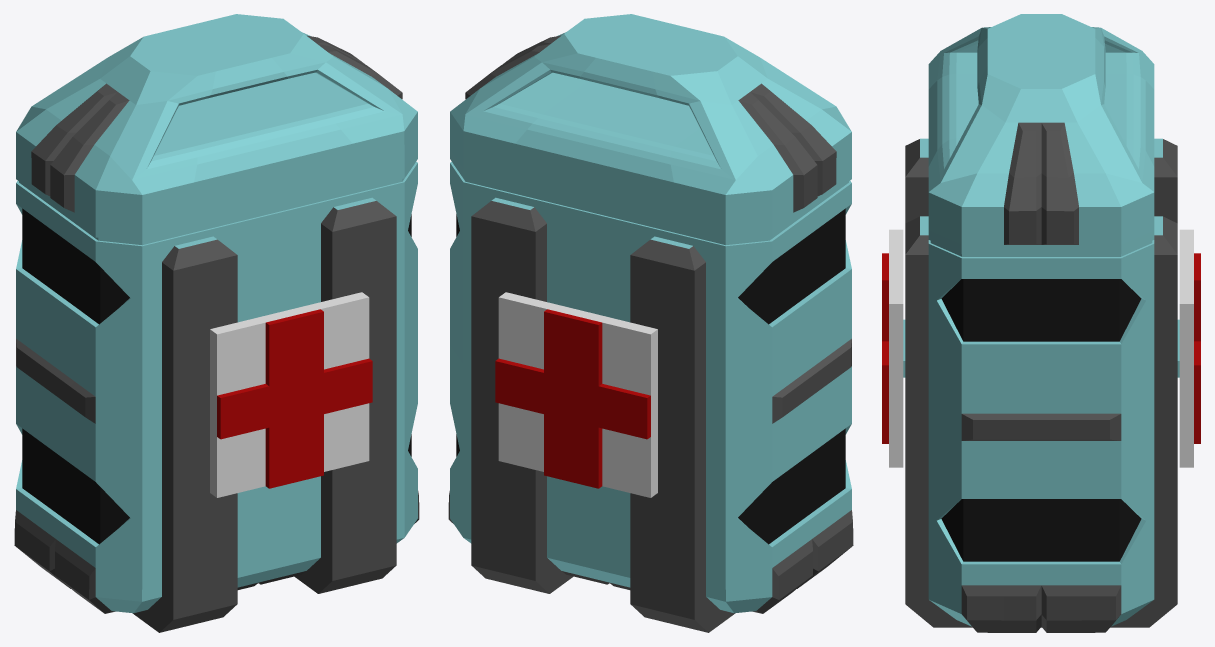
File: Medkit3.fbx
3 views of the same model, side by side, from view 1: azimuth 30°, elevation 25°; view 2: azimuth 150°, elevation 25°; view 3: azimuth 270°, elevation 25° (orthographic).
Parts seen in each view (by area): view 1: Medkit.001; view 2: Medkit.001; view 3: Medkit.001.
Boxes of the visible parts, box(x1,y1,x2,y2) form: Medkit.001: box(14, 14, 419, 632); Medkit.001: box(448, 14, 853, 632); Medkit.001: box(882, 14, 1200, 632).
Bounding box in the file's own units: 154 × 227 × 126.
